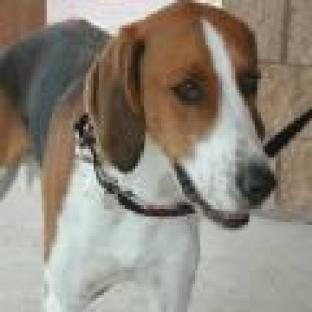Animal: (0, 0, 273, 309)
